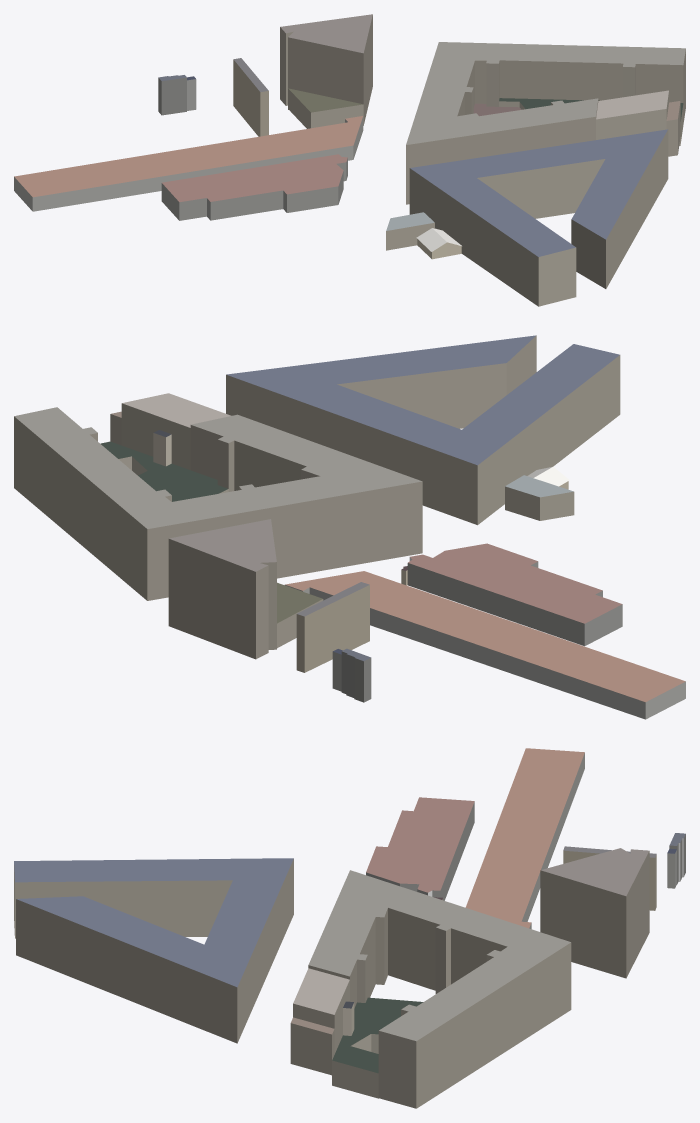
3 renders of one model, top to bottom at view 1: azimuth 30°, elevation 25°; view 2: azimuth 150°, elevation 25°; view 3: azimuth 270°, elevation 25°, orthographic. The views are drawn at different scales.
Visible parts, largest first — view 1: tuile; view 2: tuile; view 3: tuile.
Boxes of the visible parts, x1,y1,x2,y2 form: tuile: (14, 14, 685, 306); tuile: (14, 335, 685, 719); tuile: (14, 748, 685, 1108).
Size of the model in its own units: 330 by 41.84 by 280.
